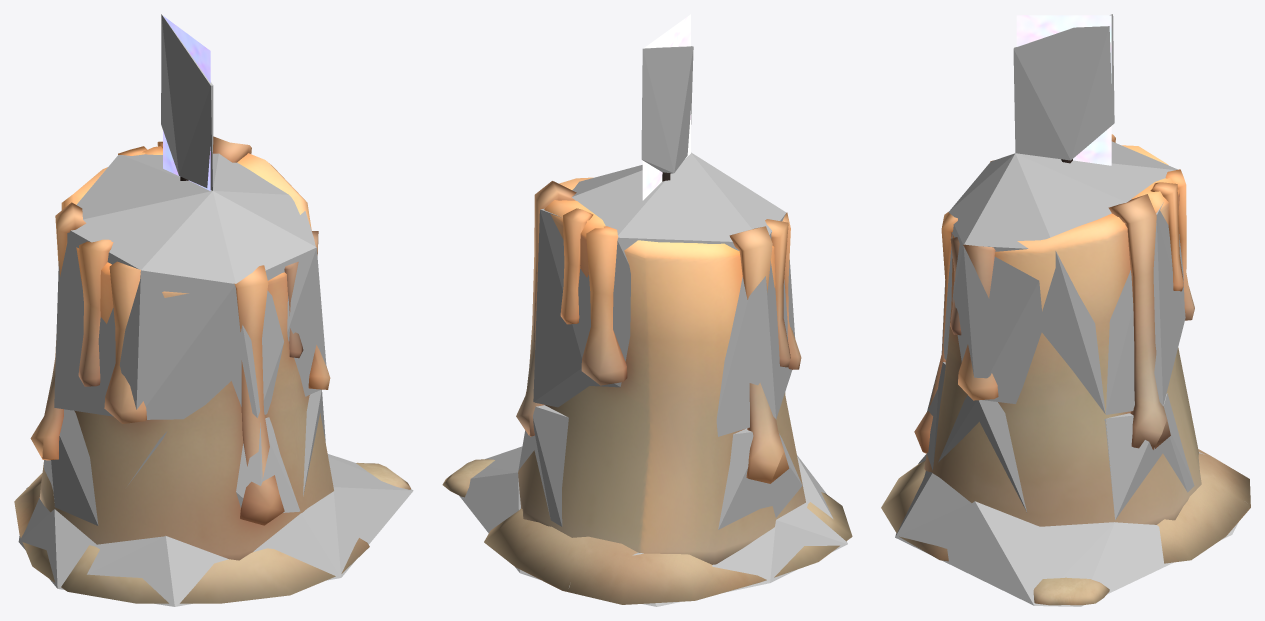
File: SM_Candle_a.fbx
The picture shows the model from 3 angles, left to right: view 1: azimuth 30°, elevation 25°; view 2: azimuth 150°, elevation 25°; view 3: azimuth 270°, elevation 25°; orthographic projection.
Visible parts, largest first — view 1: SM_Candle_a_ConvexHulls, SM_Candle_a; view 2: SM_Candle_a, SM_Candle_a_ConvexHulls; view 3: SM_Candle_a_ConvexHulls, SM_Candle_a.
Boxes of the visible parts, x1,y1,x2,y2 form: SM_Candle_a_ConvexHulls: (18, 14, 413, 606); SM_Candle_a: (14, 16, 410, 603); SM_Candle_a: (442, 14, 852, 604); SM_Candle_a_ConvexHulls: (459, 46, 847, 606); SM_Candle_a_ConvexHulls: (895, 14, 1238, 606); SM_Candle_a: (881, 15, 1250, 605).
Bounding box in the file's own units: 17.08 × 15.08 × 22.09.
2 materials, 1 textured.
